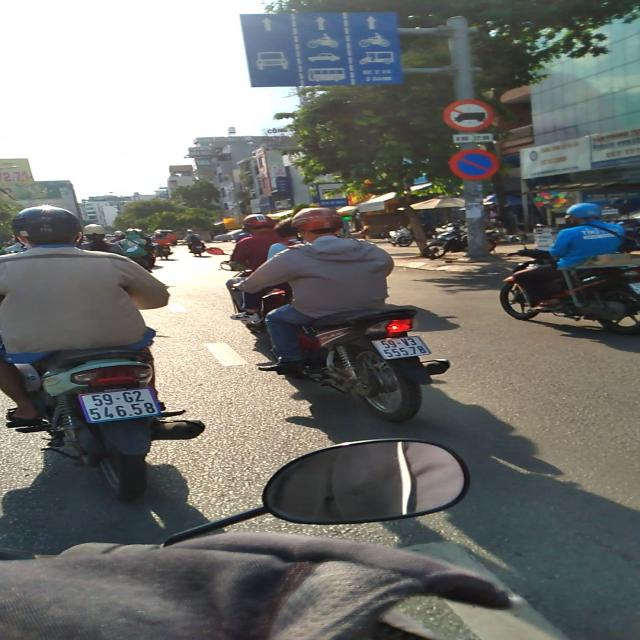Cam con lai: (442, 99, 494, 132)
Cam dung va do: (448, 148, 500, 181)
